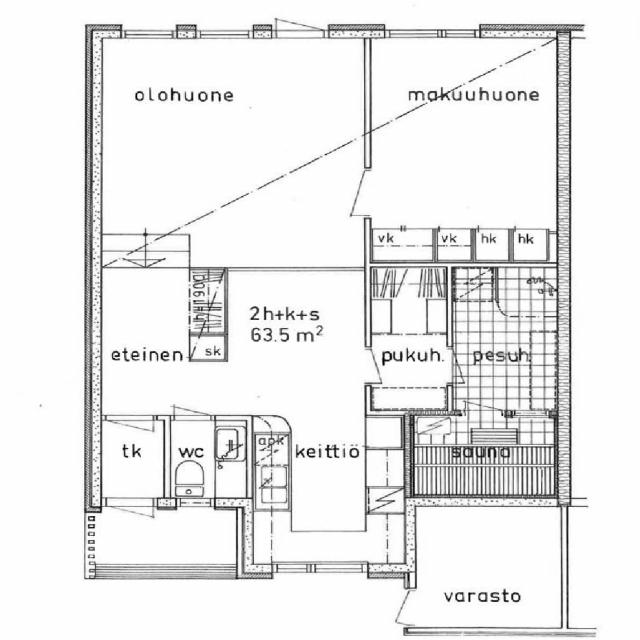door: (107, 498, 154, 554), (314, 171, 371, 216), (106, 415, 154, 462), (276, 0, 324, 38), (367, 591, 416, 625), (464, 377, 504, 417), (365, 349, 410, 383), (448, 350, 491, 383), (174, 384, 210, 420)
